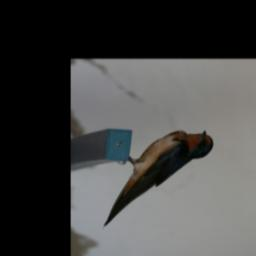Swallow: (101, 128, 216, 229)
